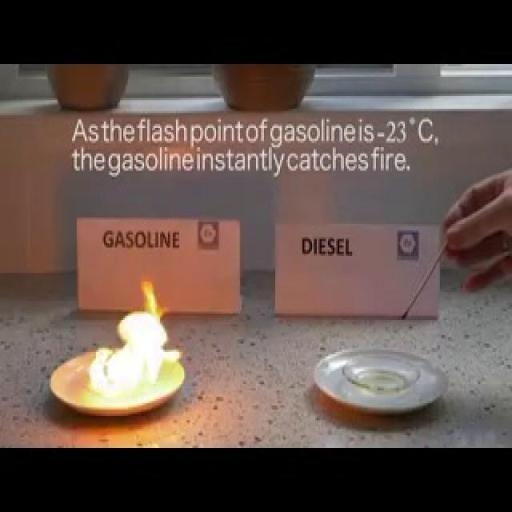smoke: (96, 241, 178, 397)
